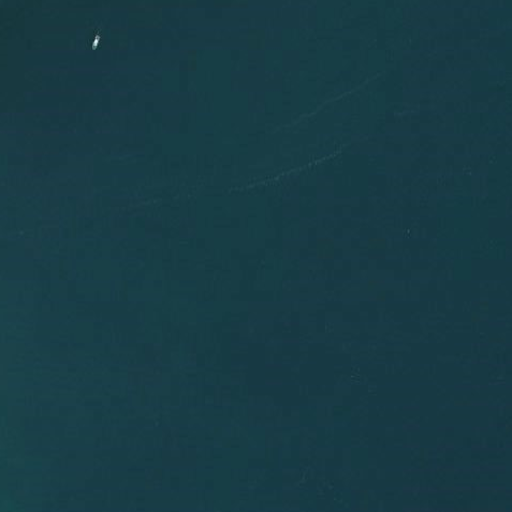ship: (90, 32, 102, 52)
